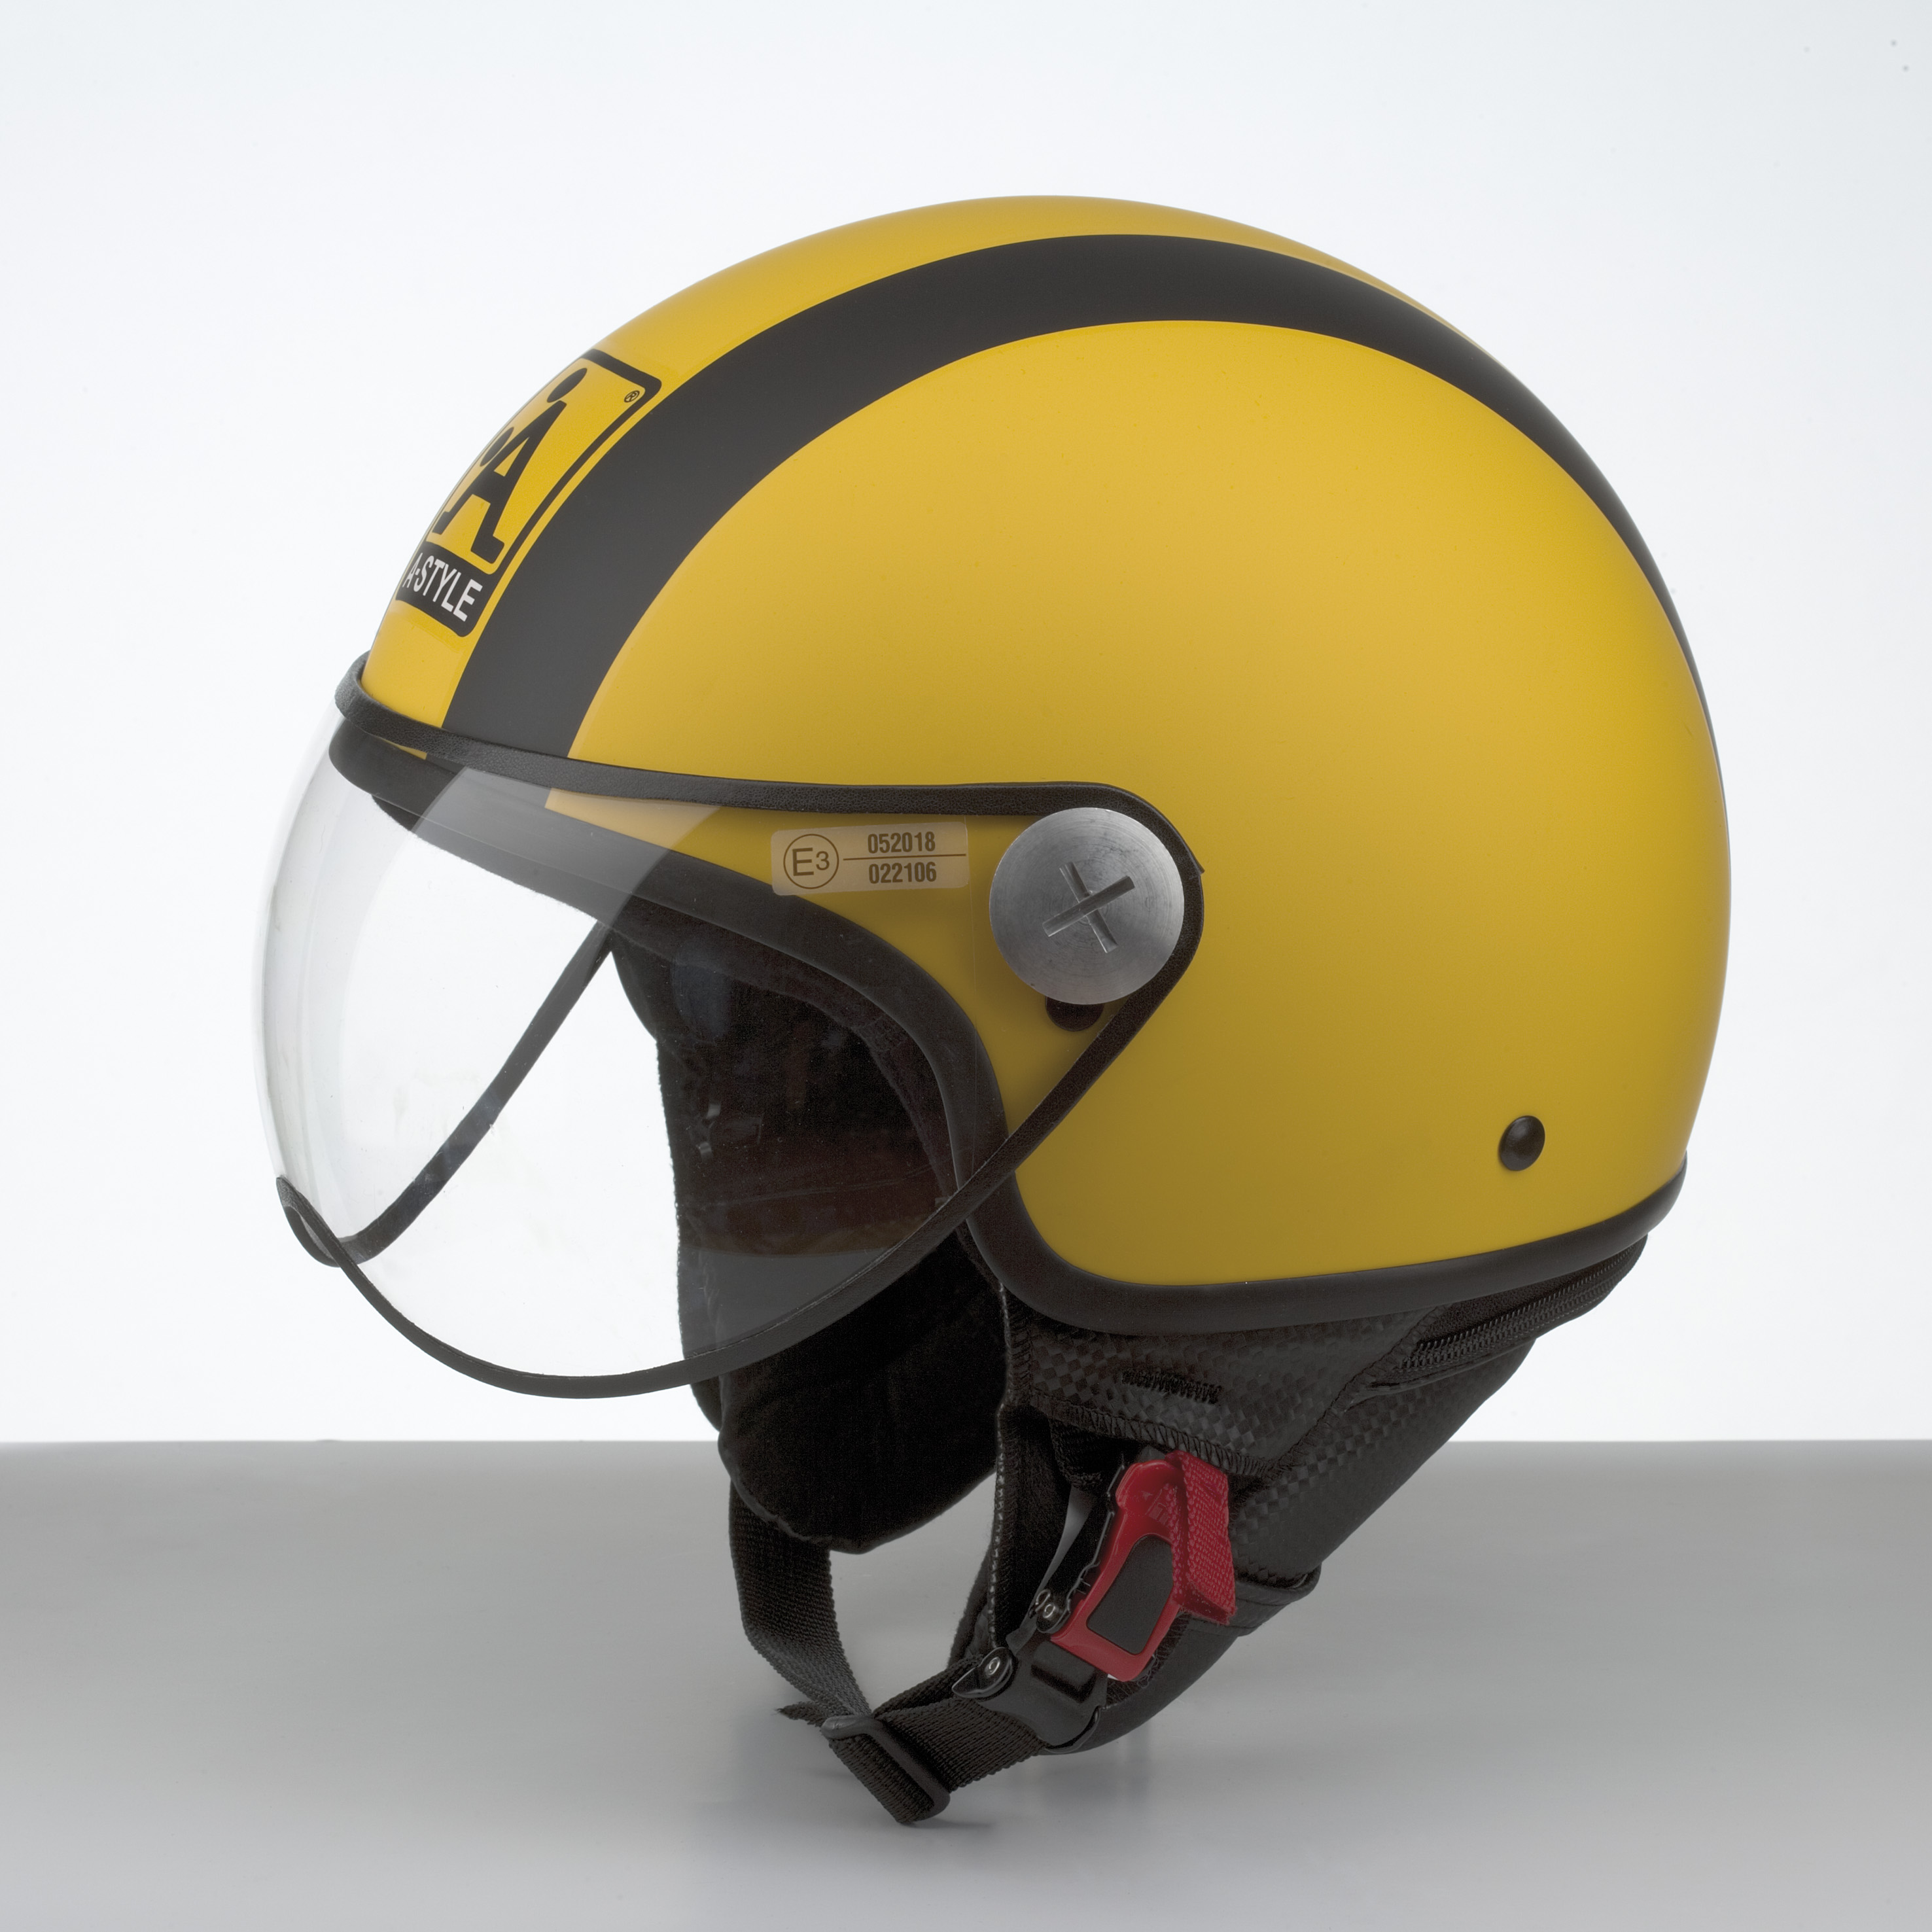helmet: (359, 269, 1757, 1545)
